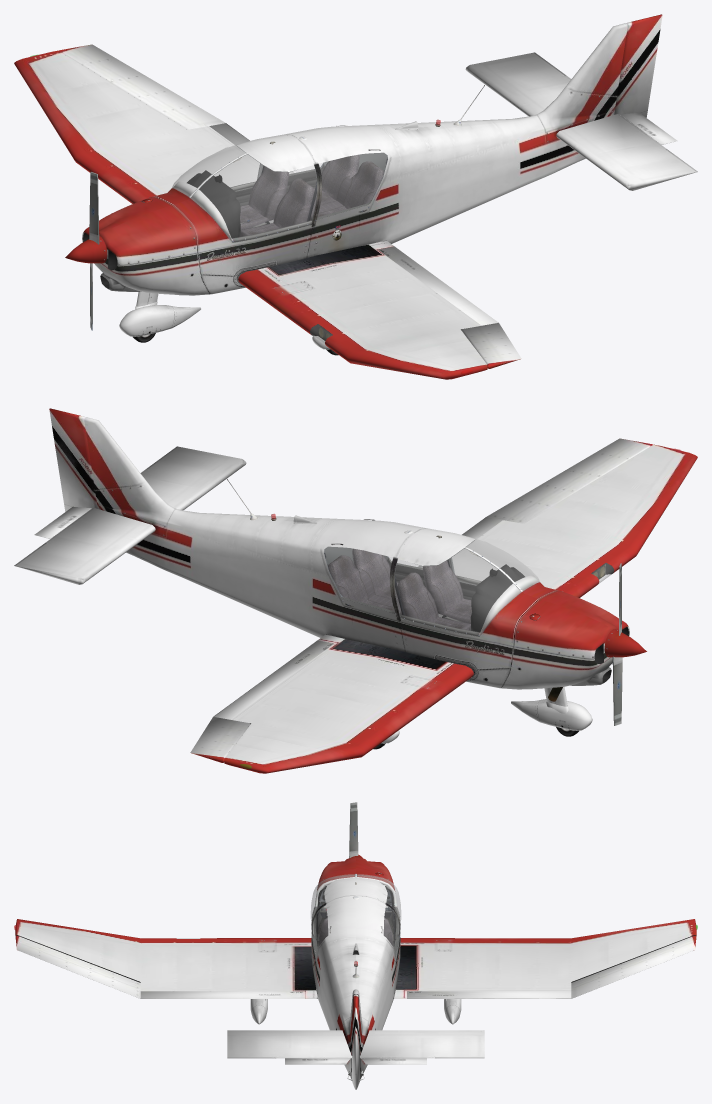
File: robin_dr400.glb
3 views of the same model, one above another, from view 1: azimuth 30°, elevation 25°; view 2: azimuth 150°, elevation 25°; view 3: azimuth 270°, elevation 25° (orthographic). The views are drawn at different scales.
Parts seen in each view (by area): view 1: Object_48, Object_56, Object_38, Object_21; view 2: Object_48, Object_56, Object_38, Object_21; view 3: Object_48, Object_56, Object_38.
Part boxes in pixels (x1,y1,x2,y2): Object_48: (14,14,697,379); Object_56: (172,145,387,344); Object_38: (190,141,387,242); Object_21: (187,170,273,238); Object_48: (14,408,697,773); Object_56: (324,539,613,636); Object_38: (324,535,521,636); Object_21: (438,564,524,632); Object_48: (15,802,696,1089); Object_56: (177,874,401,957); Object_38: (311,874,400,958).
Size of the model in its own units: 6.96 by 2.23 by 8.74.
Materials: 44 (40 with a texture image).
